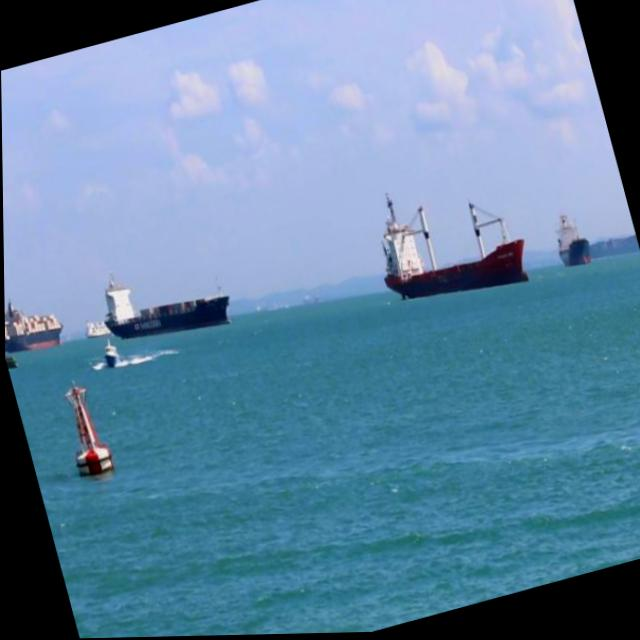ship2: (381, 194, 529, 302), (102, 271, 229, 339), (4, 298, 63, 354), (553, 216, 592, 271), (103, 339, 121, 368)
